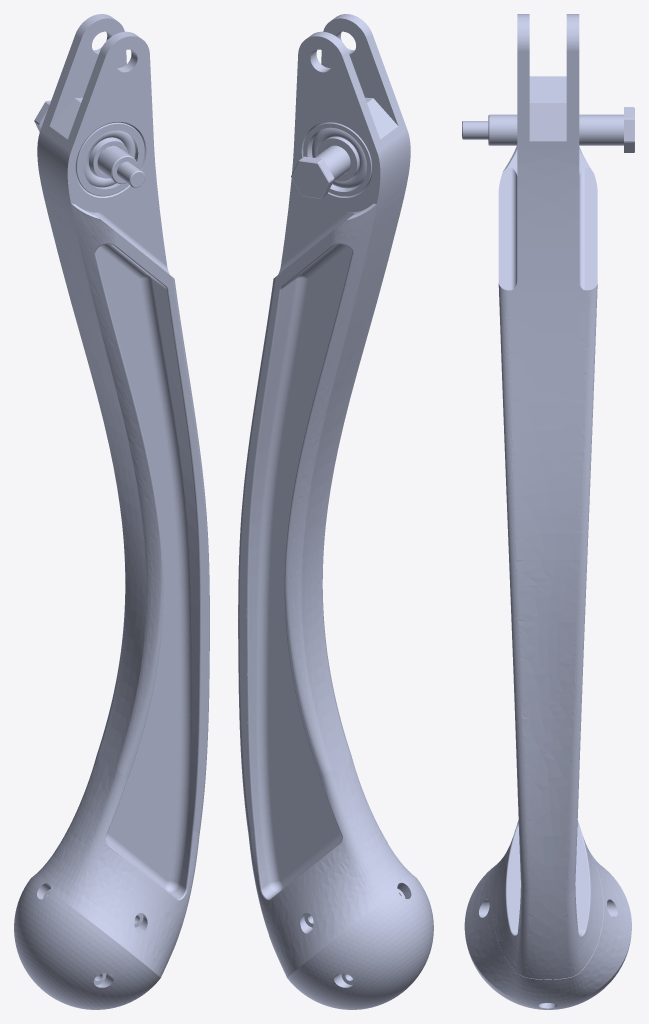
Rendered from calf.dae.
3 views of the same model, side by side, from view 1: azimuth 30°, elevation 25°; view 2: azimuth 150°, elevation 25°; view 3: azimuth 270°, elevation 25° (orthographic). The views are drawn at different scales.
Parts seen in each view (by area): view 1: node_e5029364_efee_4cd0_84c2_d2f85f94b74e_mesh0, node_e5029364_efee_4cd0_84c2_d2f85f94b74e_mesh1; view 2: node_e5029364_efee_4cd0_84c2_d2f85f94b74e_mesh1, node_e5029364_efee_4cd0_84c2_d2f85f94b74e_mesh0; view 3: node_e5029364_efee_4cd0_84c2_d2f85f94b74e_mesh0, node_e5029364_efee_4cd0_84c2_d2f85f94b74e_mesh1.
Part boxes in pixels (bbox=[...]): node_e5029364_efee_4cd0_84c2_d2f85f94b74e_mesh0: bbox=[31, 18, 209, 987]; node_e5029364_efee_4cd0_84c2_d2f85f94b74e_mesh1: bbox=[14, 14, 193, 1009]; node_e5029364_efee_4cd0_84c2_d2f85f94b74e_mesh1: bbox=[246, 14, 433, 1009]; node_e5029364_efee_4cd0_84c2_d2f85f94b74e_mesh0: bbox=[238, 18, 411, 987]; node_e5029364_efee_4cd0_84c2_d2f85f94b74e_mesh0: bbox=[462, 51, 634, 1004]; node_e5029364_efee_4cd0_84c2_d2f85f94b74e_mesh1: bbox=[462, 14, 634, 1009].
Bounding box in the file's own units: 64.97 × 55.8 × 354.
